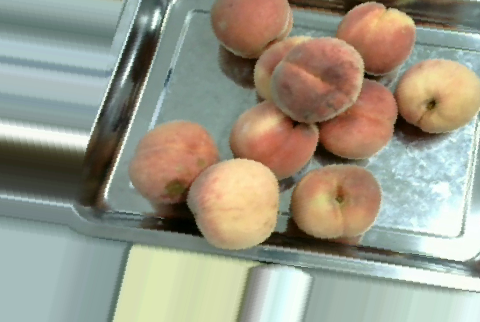Peach: (186, 158, 280, 250), (271, 36, 364, 124), (129, 120, 220, 208), (289, 162, 382, 238), (229, 100, 319, 177), (396, 57, 480, 135), (316, 79, 398, 155), (336, 2, 414, 75), (211, 0, 292, 60)
